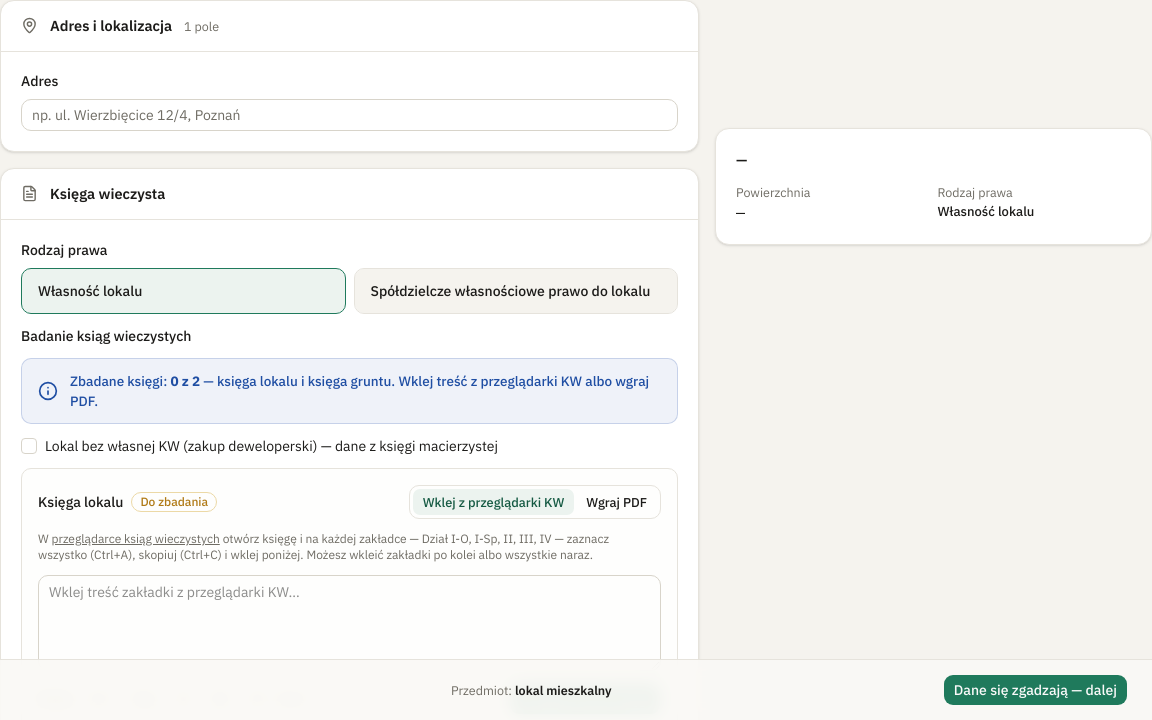
SubjectForm — summary tile: rodzaj prawa (S3) › shows the right from PROPERTY_RIGHT_LABEL and the 'Co się zmieni dalej' block only for the coop right
expect the element with test id "subject-summary" shows "Rodzaj prawa": met, box [938,184,1013,200]
expect the element with test id "subject-summary" shows "Własność lokalu": met, box [938,202,1034,220]
Click the radio button labelled "Spółdzielcze własnościowe prawo do lokalu".
click(516, 291)  # box [354,268,678,314]
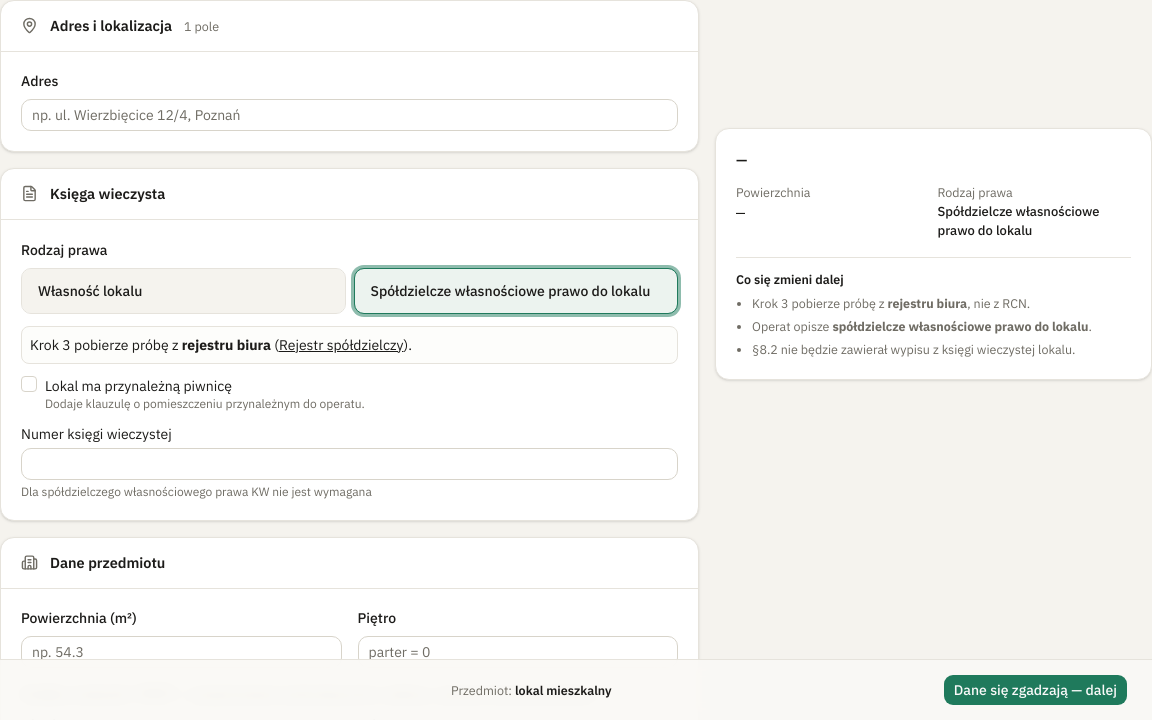
expect the element with test id "subject-summary" shows "Spółdzielcze własnościowe prawo do lokalu": met, box [938,202,1099,239]
expect the text "Co się zmieni dalej" is shown: met, box [736,270,844,286]
expect the element with test id "subject-summary" shows "Krok 3 pobierze próbę z rejestru biura, nie z RCN": met, box [715,128,1151,380]
Click the checkbox named "Lokal ma przynależną piwnicę".
click(29, 384)  # box [21,376,37,392]
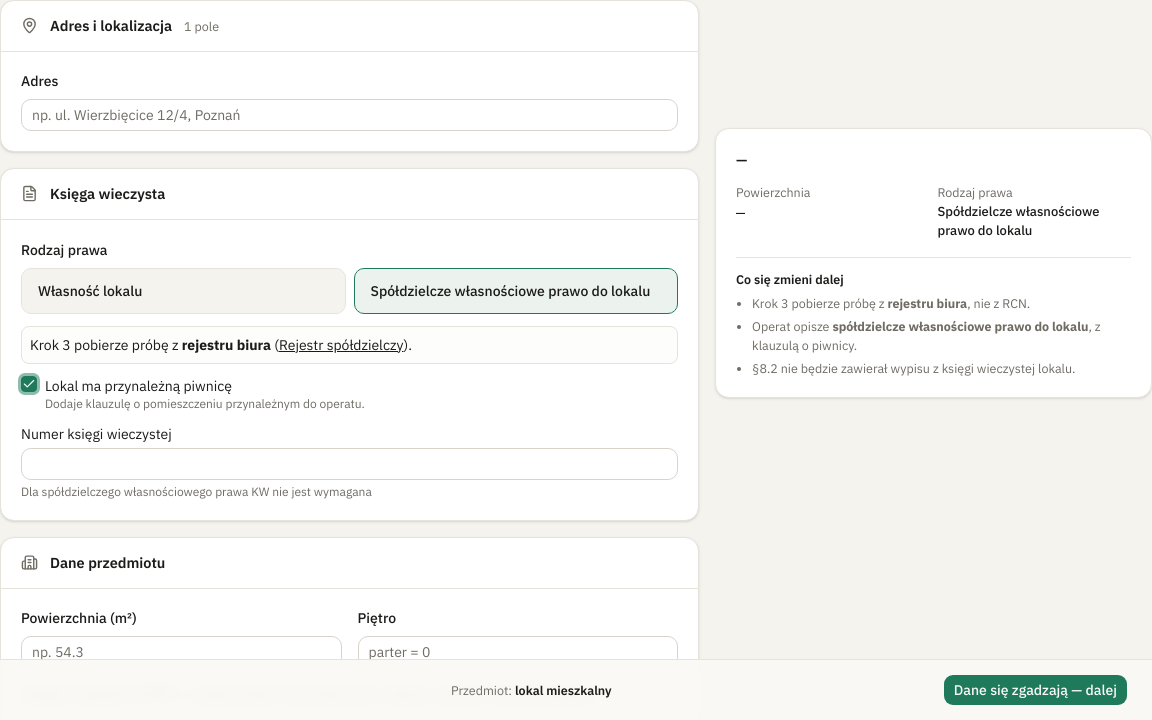
expect the element with test id "subject-summary" shows "z klauzulą o piwnicy": met, box [752,318,1101,353]
Click the radio button labelled "Własność lokalu".
click(90, 291)  # box [21,268,346,314]
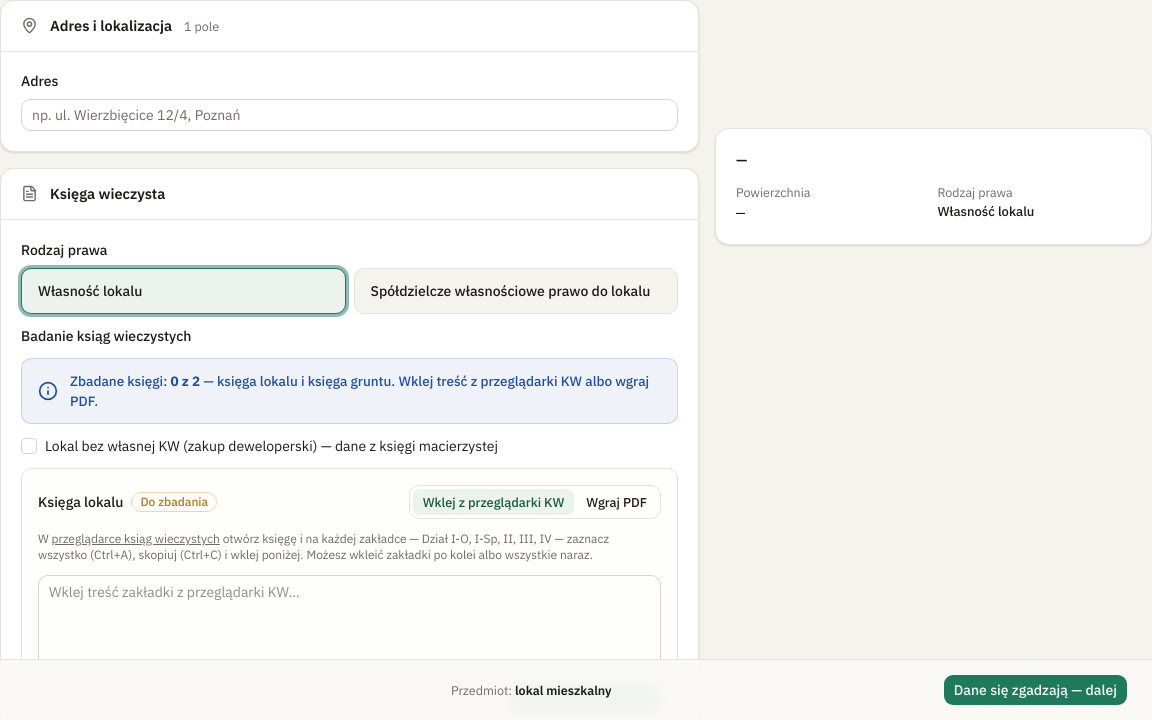
expect the text "Co się zmieni dalej" is gone: met
